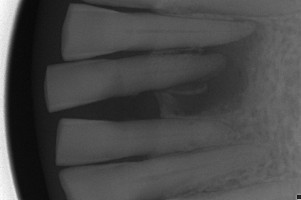Furcation Involvement: (167, 22, 266, 116)
